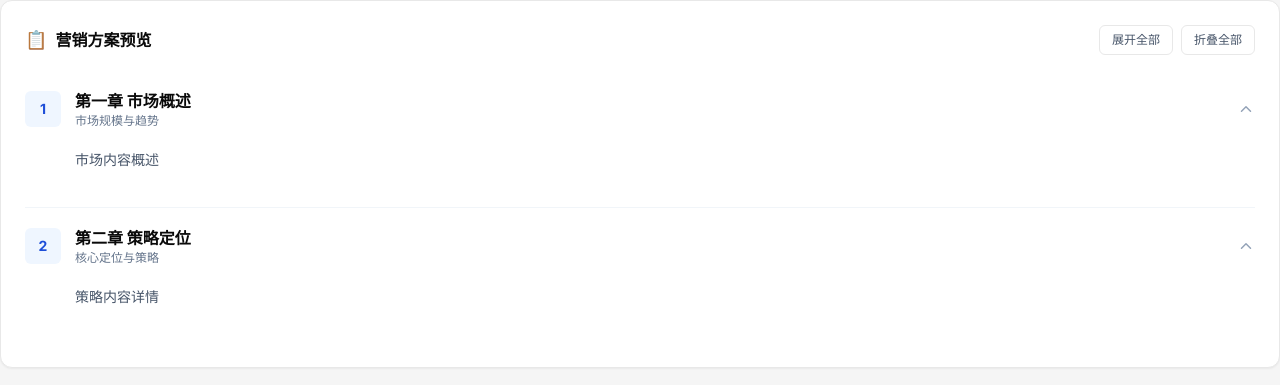
Test: PlanPreview › collapse all closes every chapter
Expected: the text "市场内容概述" is shown, [75,151,159,168]
Step 1. Click the button "折叠全部" → (1218, 40), box [1181,25,1255,55]
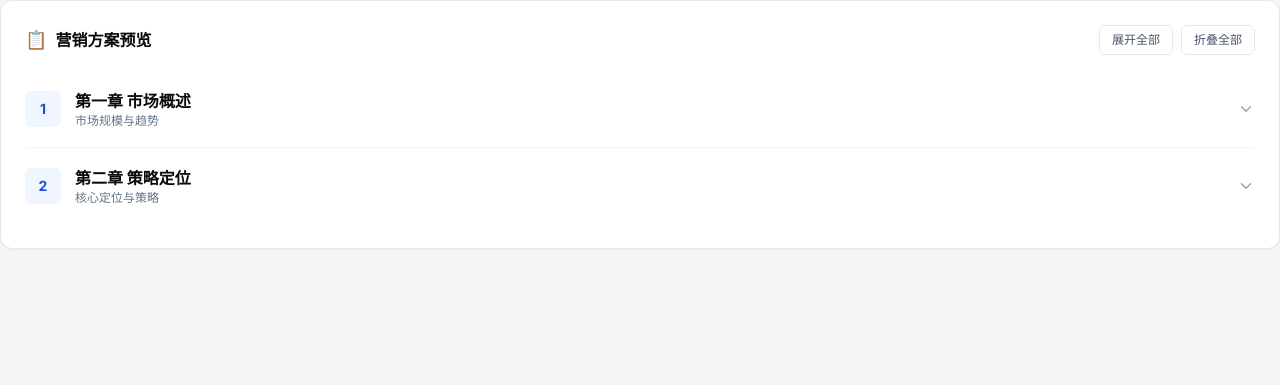
Expected: the text "市场内容概述" is gone
